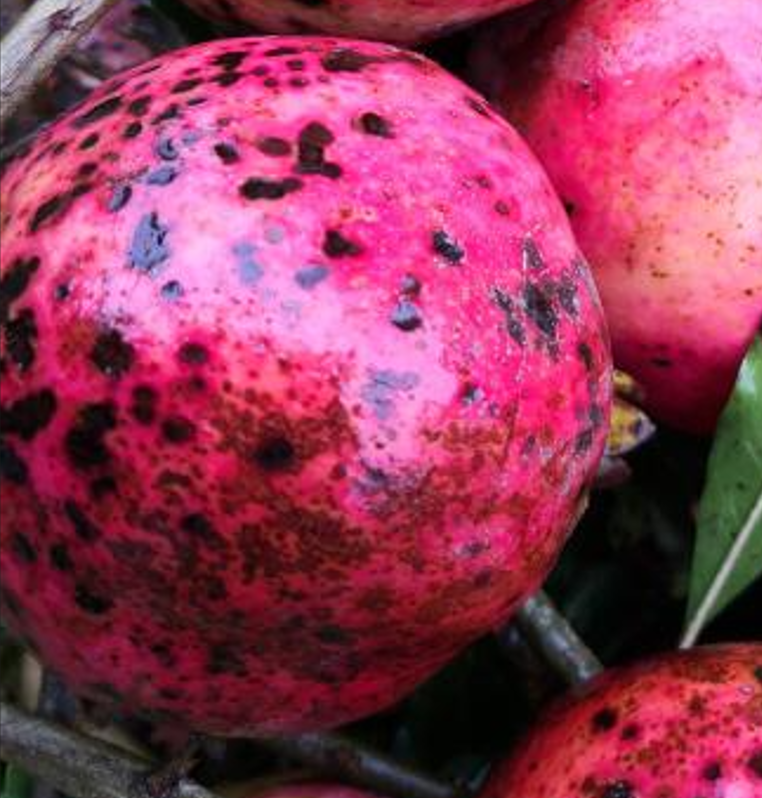pomegranate_C: (2, 34, 658, 739)
